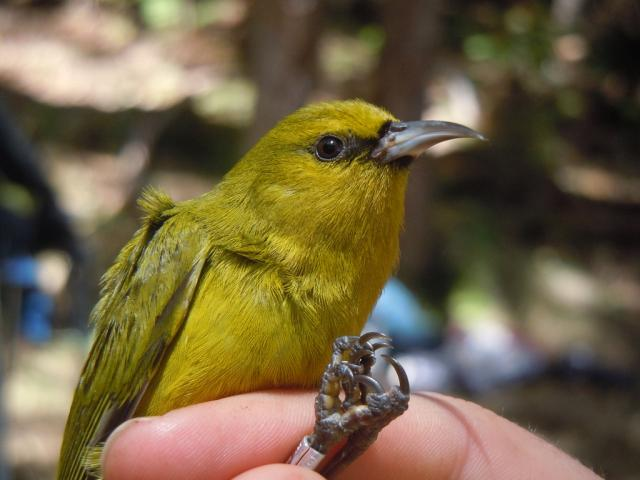Bird: (52, 100, 475, 480)
